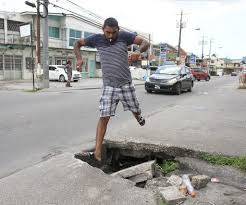Manhole-Open: (80, 131, 189, 195)
car: (147, 56, 197, 99), (45, 58, 91, 83), (191, 65, 216, 85)
human: (72, 13, 162, 168)
